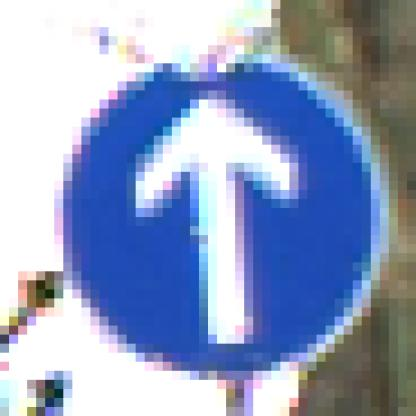AheadOnly: (55, 55, 372, 372)
